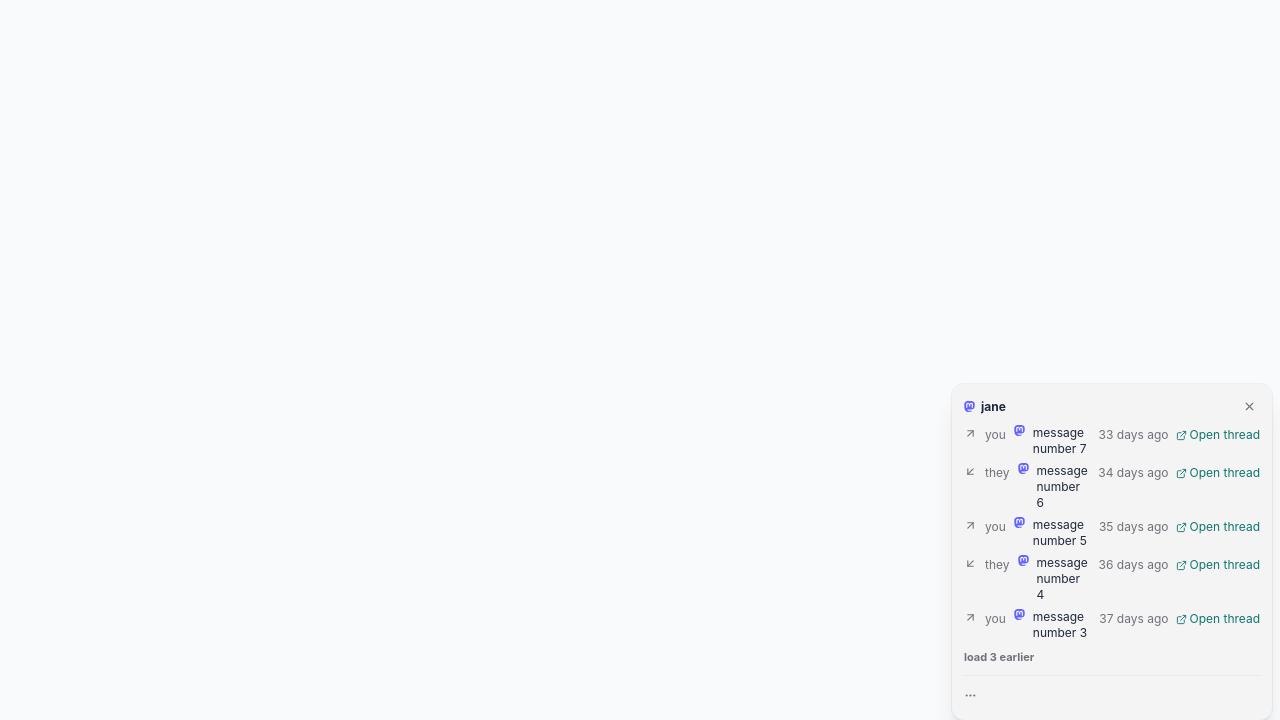
it: HistoryPopover › paginates the DISPLAY over unbounded storage ("load N earlier")
(page scrolled)
Check: the text "message number 0" is not shown
Click the button "load 3 earlier".
click(999, 657)  # box 964,649 -> 1034,666
(page scrolled)
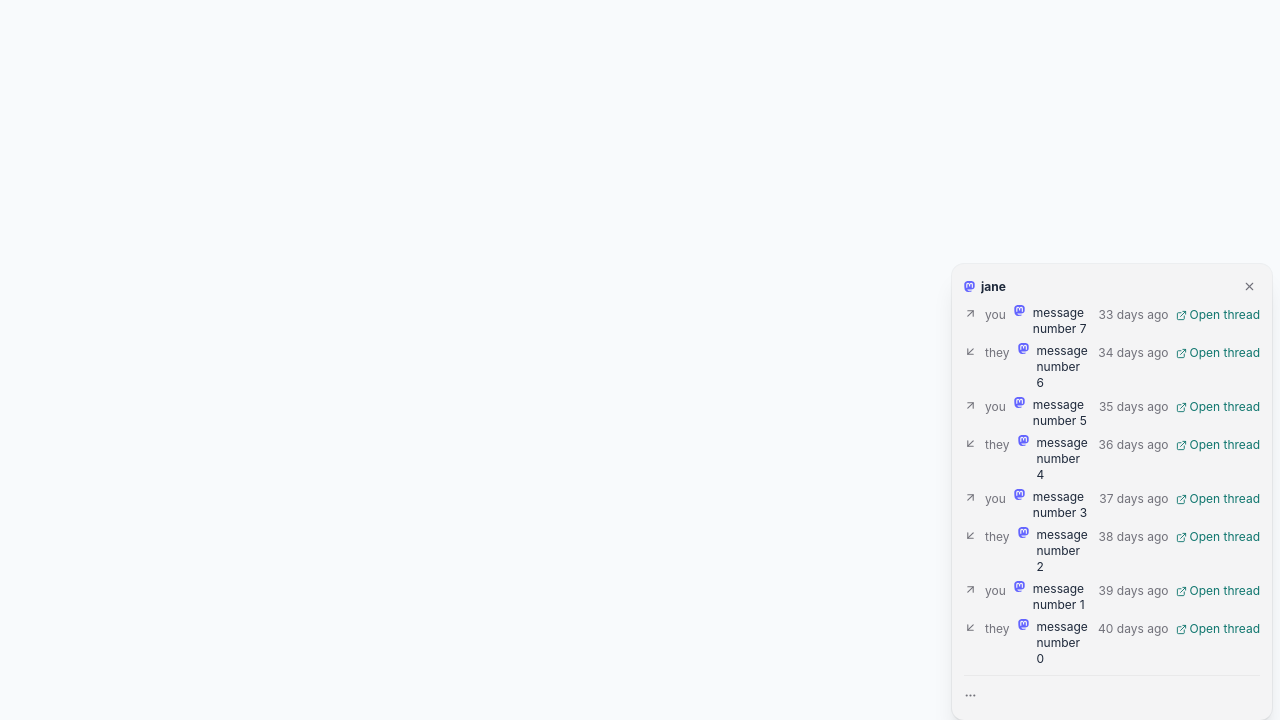
Check: the text "message number 0" is shown, box 1036,619 -> 1088,666
